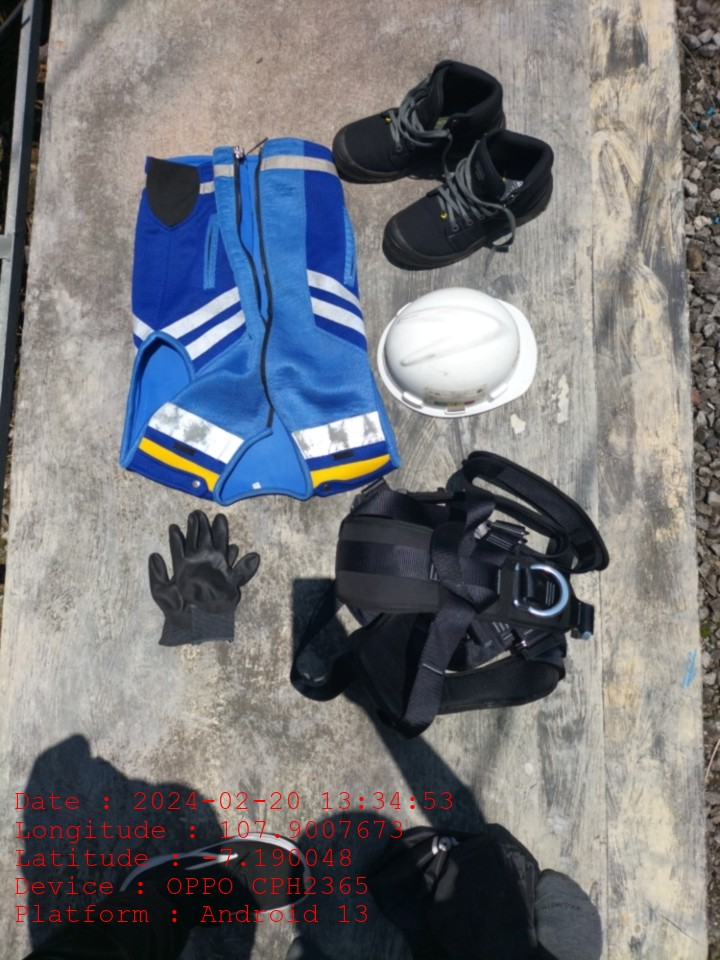HELM: (379, 286, 541, 416)
ROMPI: (144, 167, 364, 506)
SARUNG_TANGAN: (148, 511, 260, 645)
SEPATU: (333, 60, 553, 271)
